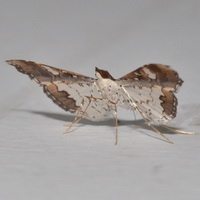insect: (6, 60, 185, 144)
